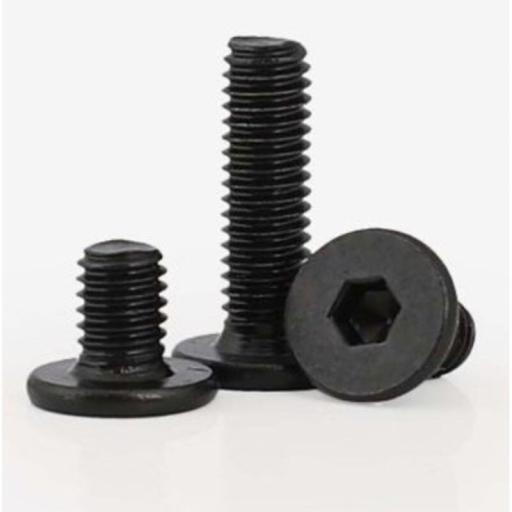Hex-Allen: (285, 224, 449, 403)
